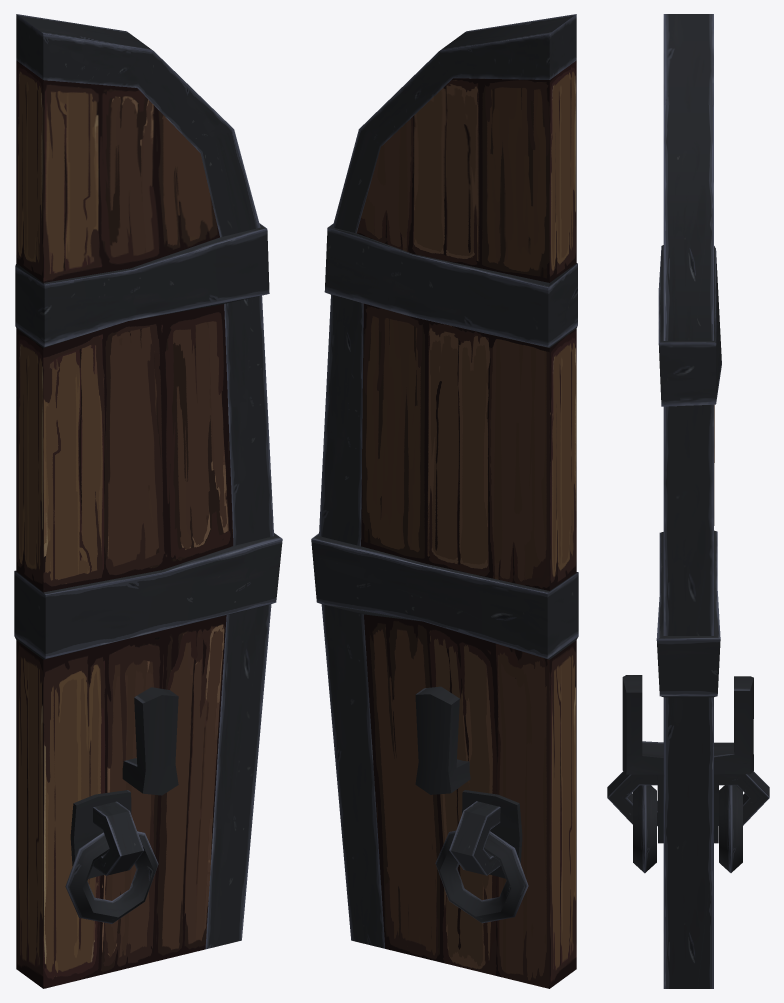
File: MOD_Gateway_Door_01_large_door_R.fbx
3 renders of one model, left to right at view 1: azimuth 30°, elevation 25°; view 2: azimuth 150°, elevation 25°; view 3: azimuth 270°, elevation 25°, orthographic. The views are drawn at different scales.
Parts seen in each view (by area): view 1: MOD_Gateway_Door_01_large_door_R; view 2: MOD_Gateway_Door_01_large_door_R; view 3: MOD_Gateway_Door_01_large_door_R.
Boxes of the visible parts, bbox=[...] form: MOD_Gateway_Door_01_large_door_R: bbox=[14, 14, 282, 988]; MOD_Gateway_Door_01_large_door_R: bbox=[311, 14, 578, 988]; MOD_Gateway_Door_01_large_door_R: bbox=[607, 14, 769, 988].
Size of what is drawn, in the model's own units: 139 by 539 by 89.55.
